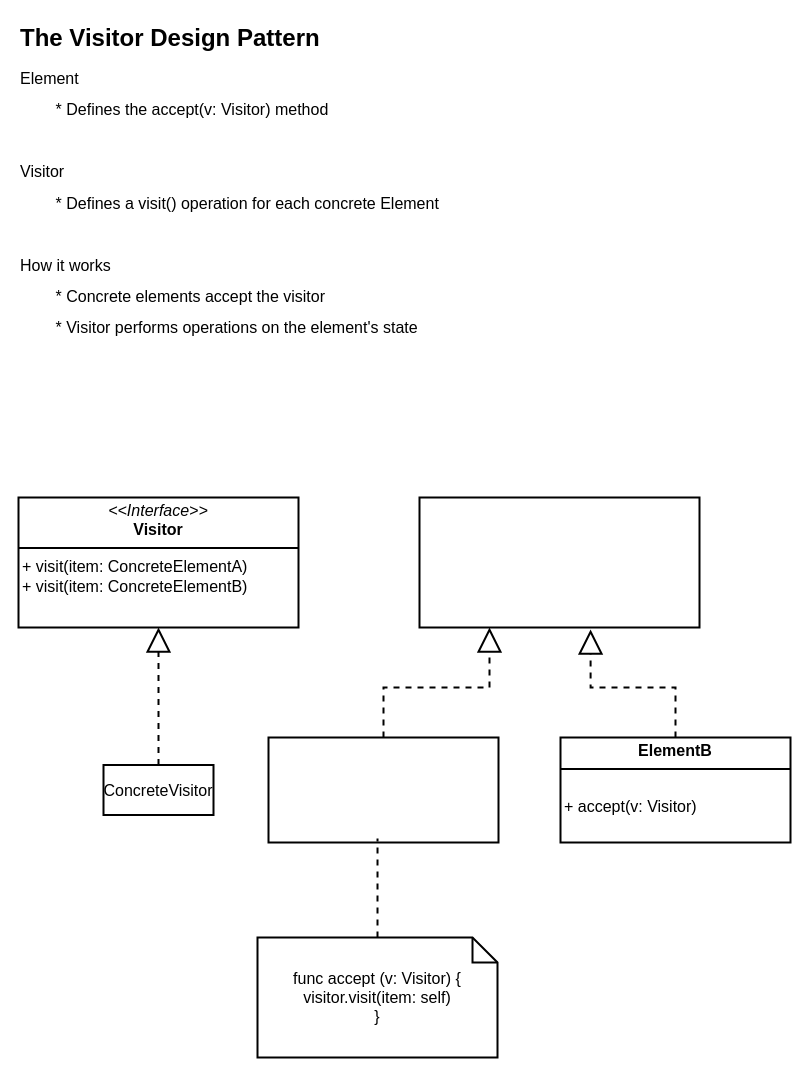
The diagram is 808 pixels wide and 1075 high, and some of its shapes have lost their labels. Here are the shapes that lost their labels. From the top down, the centre of each, then its label:
At point (559, 562): "<<Interface>> Element + accept(v: Visitor)".
At point (383, 789): "ElementA + accept(v: Visitor)".
